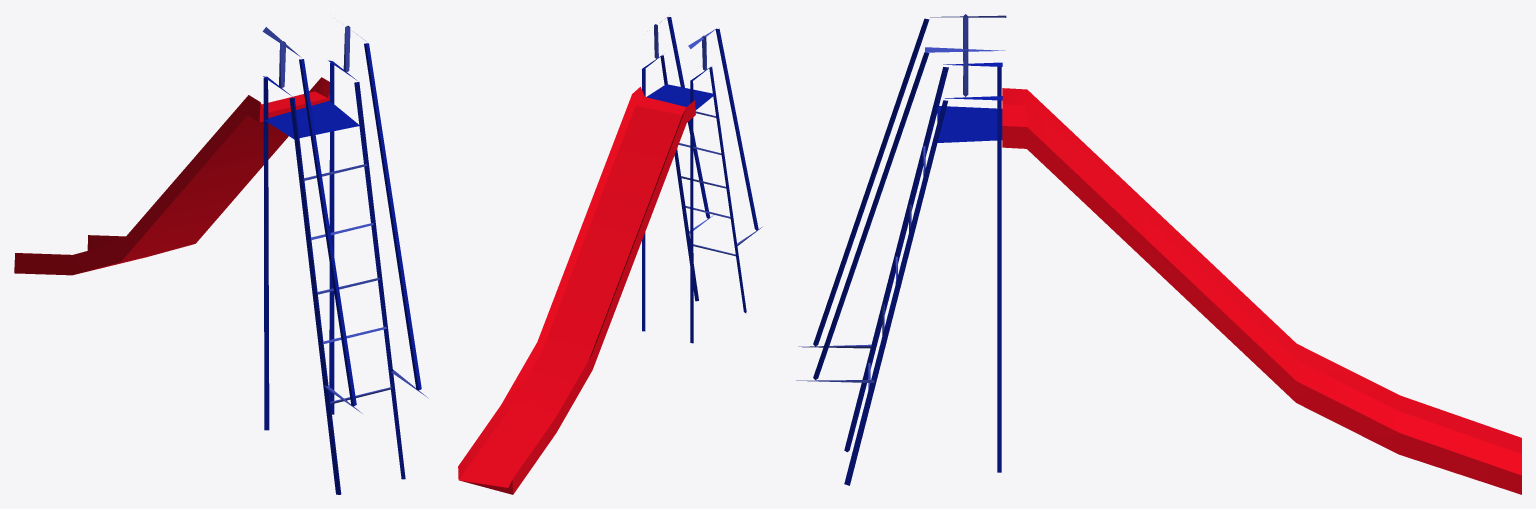
File: EscorregadorLOD1.fbx
The picture shows the model from 3 angles, left to right: view 1: azimuth 30°, elevation 25°; view 2: azimuth 150°, elevation 25°; view 3: azimuth 270°, elevation 25°; orthographic projection. The views are drawn at different scales.
Parts seen in each view (by area): view 1: EscorregadorLOD1; view 2: EscorregadorLOD1; view 3: EscorregadorLOD1.
Boxes of the visible parts, x1,y1,x2,y2 form: EscorregadorLOD1: (14,25,428,494); EscorregadorLOD1: (458,17,761,494); EscorregadorLOD1: (796,14,1521,494).
Bounding box in the file's own units: 44.11 × 238 × 351.
